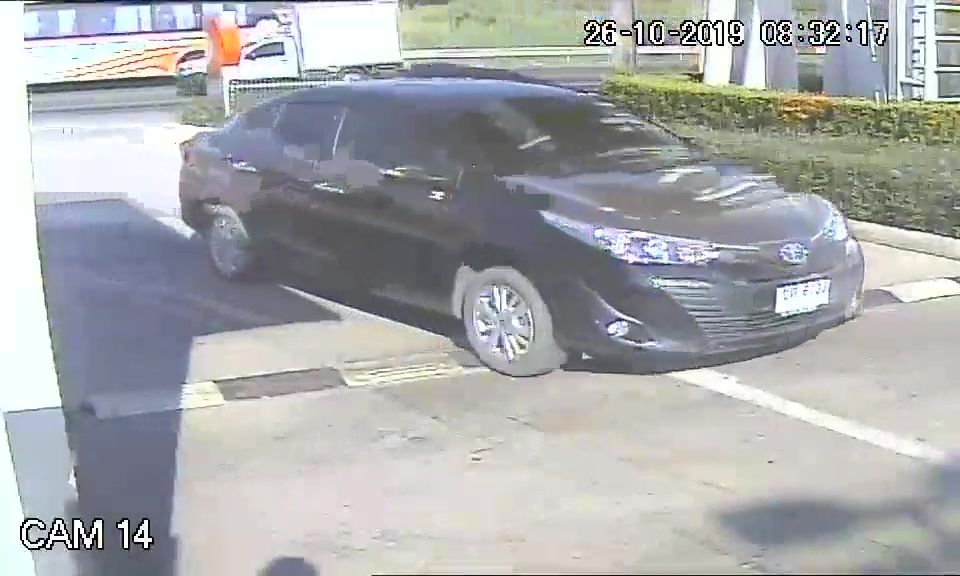sedan: (181, 82, 866, 379)
